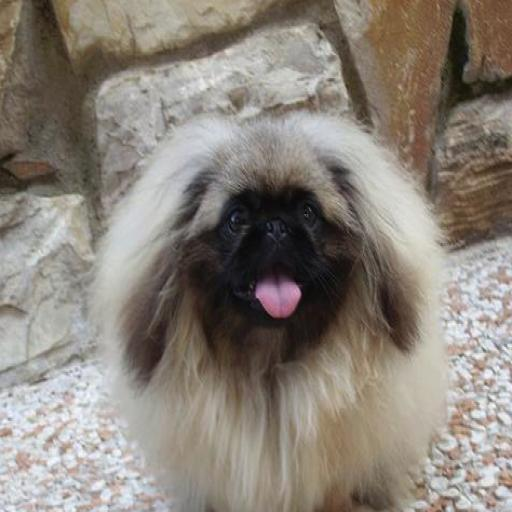dog_face: (152, 133, 418, 340)
